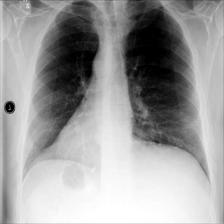normal: (22, 1, 212, 195)
